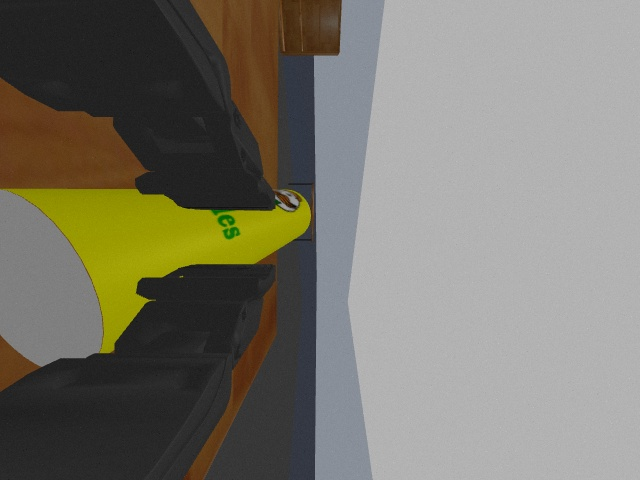chipsdose_gelb: (2, 189, 312, 369)
